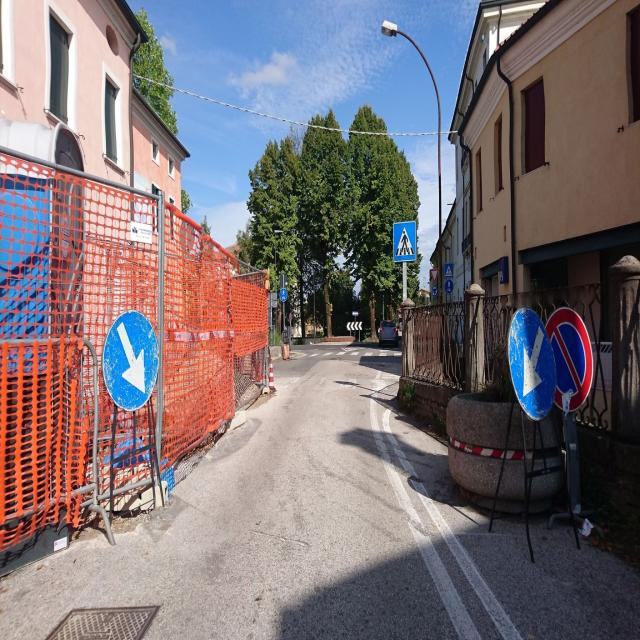forb_stopping: (543, 295, 594, 419)
